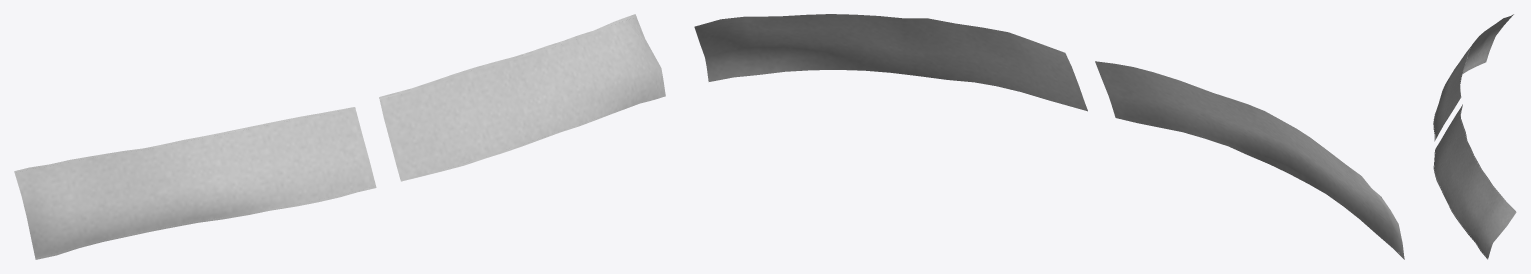
File: COP_Bust_V1.glb
The picture shows the model from 3 angles, left to right: view 1: azimuth 30°, elevation 25°; view 2: azimuth 150°, elevation 25°; view 3: azimuth 270°, elevation 25°; orthographic projection. The views are drawn at different scales.
Parts seen in each view (by area): view 1: COP_Bust_V11, Rope1; view 2: COP_Bust_V11; view 3: COP_Bust_V11, Rope1.
Part boxes in pixels (box(x1,y1,x2,y2)): COP_Bust_V11: box(14, 14, 665, 259); Rope1: box(14, 16, 665, 258); COP_Bust_V11: box(694, 14, 1404, 259); COP_Bust_V11: box(1433, 14, 1516, 259); Rope1: box(1433, 36, 1515, 258).
Size of the model in its own units: 0.727 by 0.1106 by 0.1256.
2 materials, 2 textured.
